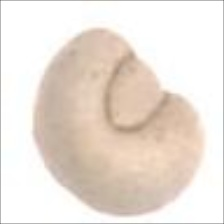L5: (101, 49, 170, 136)
L6: (29, 25, 205, 217)
